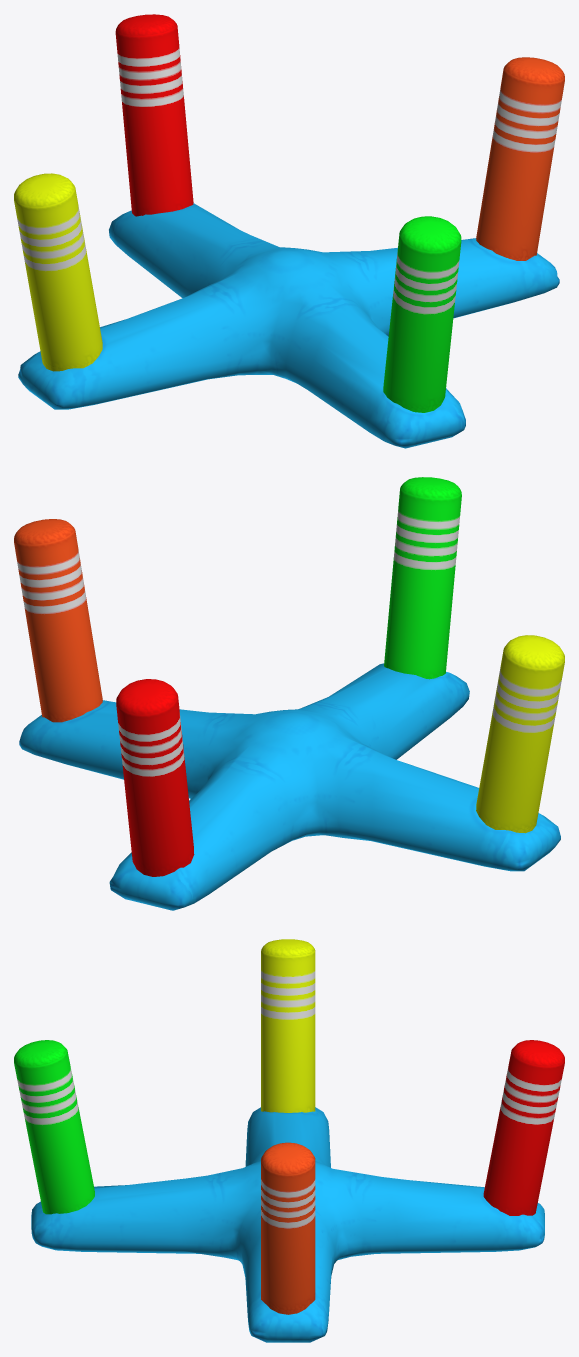
Rendered from PoolTossGame01_1.FBX.
The picture shows the model from 3 angles, top to bottom: view 1: azimuth 30°, elevation 25°; view 2: azimuth 150°, elevation 25°; view 3: azimuth 270°, elevation 25°; orthographic projection. The views are drawn at different scales.
Parts seen in each view (by area): view 1: PoolTossGame01_1; view 2: PoolTossGame01_1; view 3: PoolTossGame01_1.
Boxes of the visible parts, x1,y1,x2,y2 form: PoolTossGame01_1: [14, 14, 564, 448]; PoolTossGame01_1: [14, 477, 564, 910]; PoolTossGame01_1: [14, 939, 564, 1342].
Size of what is drawn, in the model's own units: 1.03 by 0.4034 by 1.03.
